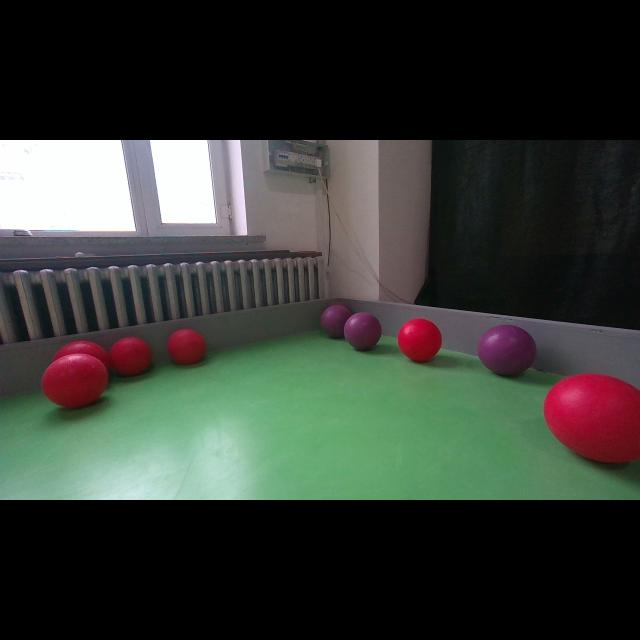P: (478, 324, 536, 376), (344, 314, 382, 351), (318, 308, 349, 334)
R: (550, 374, 640, 461), (41, 353, 108, 409), (398, 318, 442, 362), (109, 336, 151, 376), (168, 329, 206, 365)
